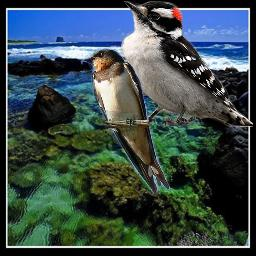Swallow: (82, 48, 170, 194)
Woodpecker: (120, 1, 253, 127)
